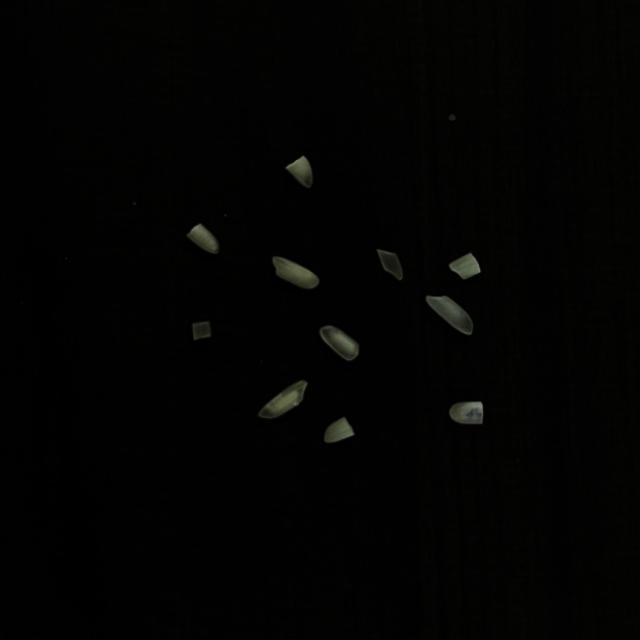Broken: (319, 325, 359, 361), (187, 223, 220, 254), (286, 155, 313, 189), (449, 252, 481, 280), (449, 401, 483, 424), (377, 249, 402, 280), (324, 417, 355, 442), (192, 321, 212, 341)
Full: (258, 379, 308, 418), (426, 295, 474, 335), (272, 256, 320, 290)
